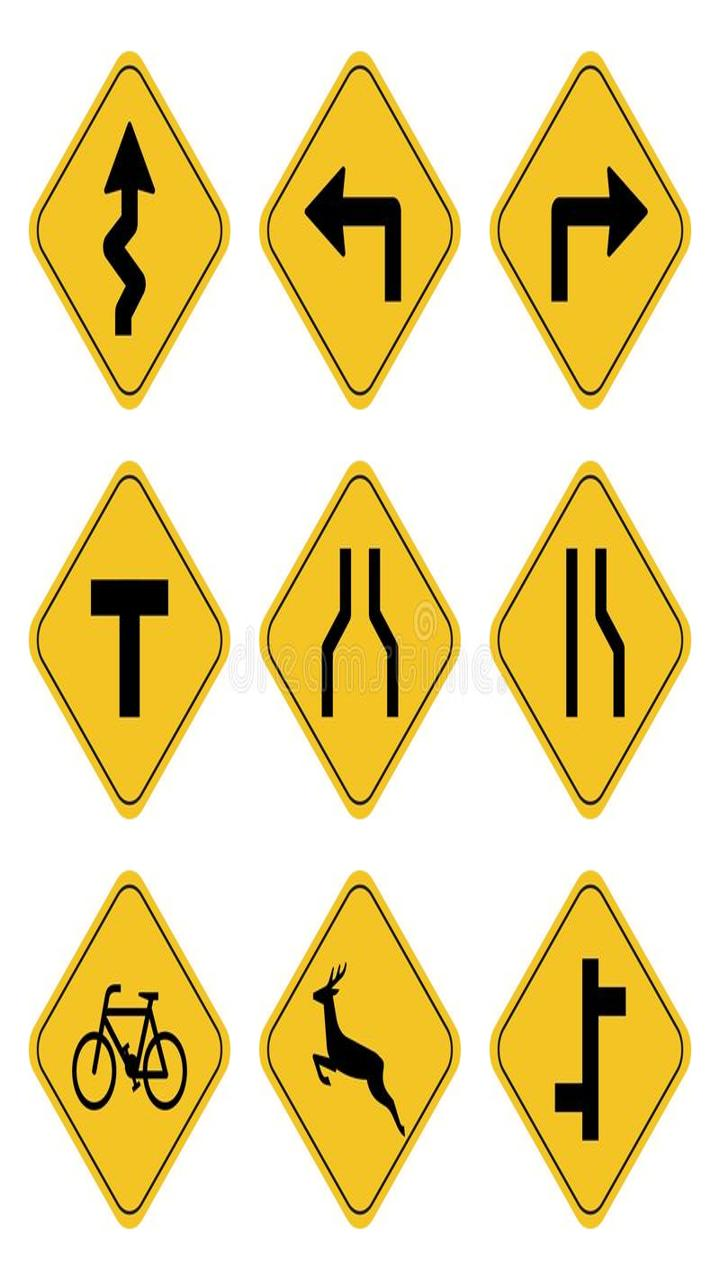Traffic sign: (9, 436, 236, 829), (22, 850, 249, 1243), (255, 845, 482, 1238), (475, 842, 702, 1235), (11, 55, 240, 415), (234, 52, 463, 412), (476, 43, 705, 403), (479, 458, 708, 818), (249, 444, 462, 825)
